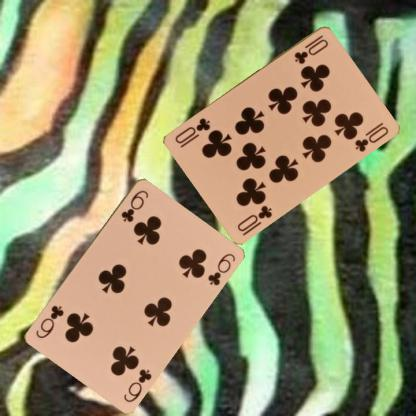10c: (291, 32, 330, 65), (234, 202, 274, 233)
6c: (121, 366, 153, 403), (119, 186, 150, 224)
